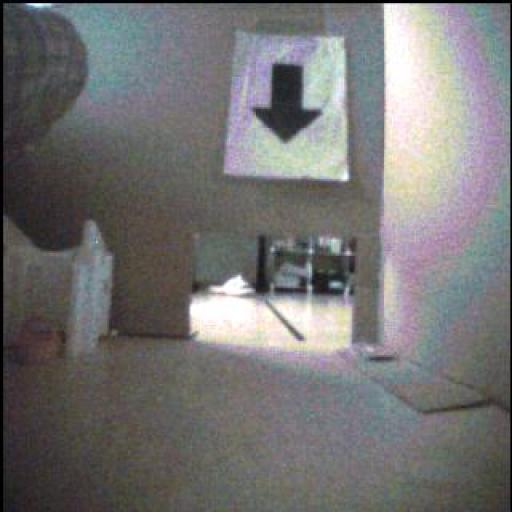arrow: (254, 65, 323, 143)
